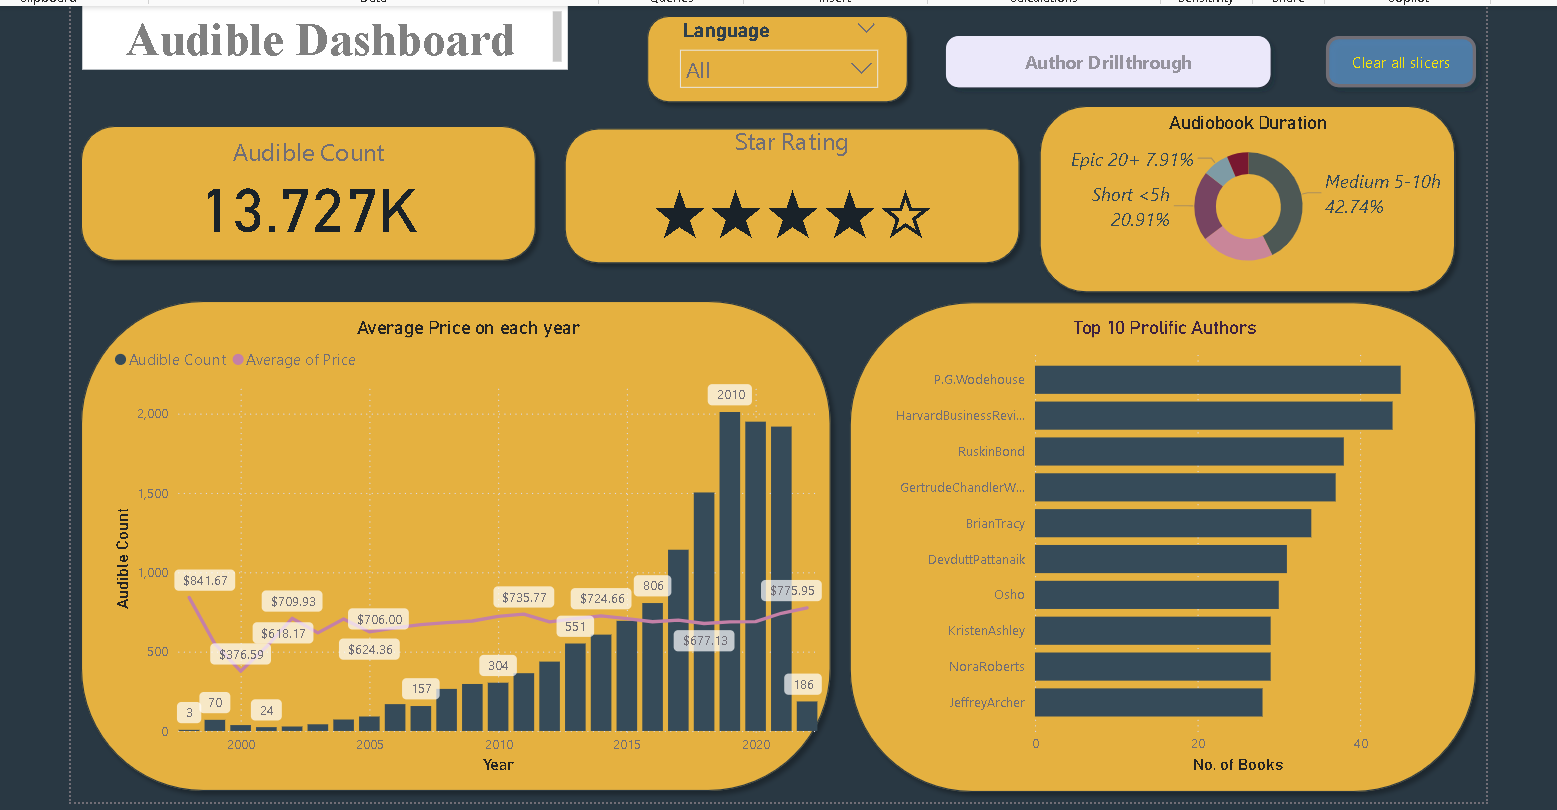

The page's visual inventory and layout, read from the dashboard file:
{"tool":"powerbi","page":{"name":"Dashboard","canvas":[1280,720],"ordinal":0},"visuals":[{"type":"shape","box":[0,99.5,429.5,140],"z":0,"group":"g1"},{"type":"group","id":"g1","title":"Background","box":[0,81.7,1280,638.3],"z":500},{"type":"shape","box":[511.8,0,253.9,96.1],"z":1000},{"type":"shape","box":[437.7,102.3,429.5,140],"z":1000,"group":"g1"},{"type":"slicer","fields":{"Values":["audible_uncleaned.Language"]},"box":[540.2,7.1,199.6,75.5],"z":1500},{"type":"textbox","box":[10.4,0,438.9,57.8],"z":2000},{"type":"shape","box":[0,258.2,696.2,461.3],"z":2000,"group":"g1"},{"type":"shape","box":[695.7,258.7,584.6,461.1],"z":3000,"group":"g1"},{"type":"actionButton","box":[1126.6,17.8,153.7,64.5],"z":4000},{"type":"shape","box":[867.2,81.7,393.8,186.6],"z":4000,"group":"g1"},{"type":"cardVisual","fields":{"Data":["CountNonNull(audible_uncleaned.Book Name)"]},"box":[11.4,98.4,407.7,135.4],"z":5000},{"type":"cardVisual","fields":{"Data":["audible_uncleaned.Median of Ratings Out of 5 star rating"]},"box":[449,98.4,407.7,135.4],"z":6000},{"type":"lineClusteredColumnComboChart","title":"Average Price on each year","fields":{"Category":["audible_uncleaned.Releasedate.Variation.Date Hierarchy.Year"],"Y":["Count(audible_uncleaned.Book Name)"],"Y2":["Avg(audible_uncleaned.Price)"]},"box":[34.2,280.8,651.4,419.1],"z":7000},{"type":"donutChart","title":"Audiobook Duration","fields":{"Category":["audible_uncleaned.Lenth Category"],"Y":["CountNonNull(audible_uncleaned.Name)"]},"box":[883.7,95.5,362,153.9],"z":8000},{"type":"barChart","title":"Top 10 Prolific Authors","fields":{"Category":["audible_uncleaned.Author"],"Y":["CountNonNull(audible_uncleaned.Book Name)"]},"box":[728.5,280.9,522.6,418.7],"z":9000},{"type":"actionButton","box":[782.2,17.8,311.5,64.5],"z":10000}]}

Visuals, with their boxes on the page's 1280x720 design canvas (x1, y1, x2, y2). These are canvas units, not pixel positions in the 1557x810 screenshot, which may show the page scaled, cropped or inside an application window:
shape: [left=0, top=100, right=430, bottom=240]
"Background" group: [left=0, top=82, right=1280, bottom=720]
shape: [left=512, top=0, right=766, bottom=96]
shape: [left=438, top=102, right=867, bottom=242]
slicer - audible_uncleaned.Language: [left=540, top=7, right=740, bottom=83]
textbox: [left=10, top=0, right=449, bottom=58]
shape: [left=0, top=258, right=696, bottom=720]
shape: [left=696, top=259, right=1280, bottom=720]
actionButton: [left=1127, top=18, right=1280, bottom=82]
shape: [left=867, top=82, right=1261, bottom=268]
cardVisual - CountNonNull(audible_uncleaned.Book Name): [left=11, top=98, right=419, bottom=234]
cardVisual - audible_uncleaned.Median of Ratings Out of 5 star rating: [left=449, top=98, right=857, bottom=234]
"Average Price on each year" lineClusteredColumnComboChart: [left=34, top=281, right=686, bottom=700]
"Audiobook Duration" donutChart: [left=884, top=96, right=1246, bottom=249]
"Top 10 Prolific Authors" barChart: [left=728, top=281, right=1251, bottom=700]
actionButton: [left=782, top=18, right=1094, bottom=82]
